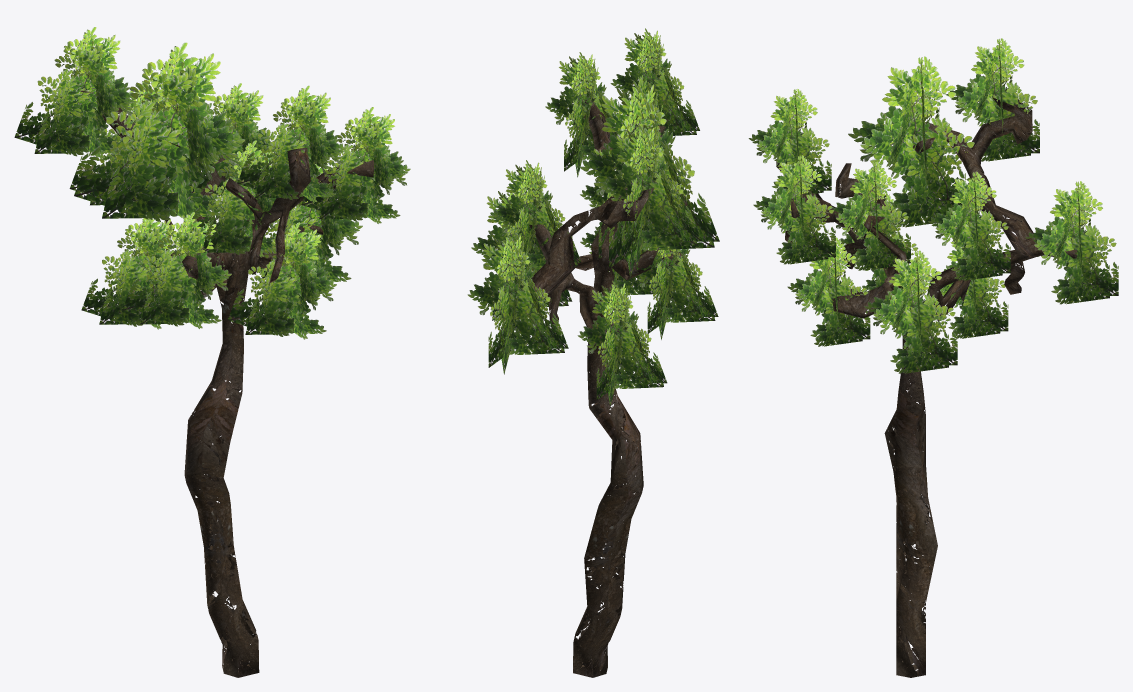
File: lowPolyTree.fbx
The picture shows the model from 3 angles, left to right: view 1: azimuth 30°, elevation 25°; view 2: azimuth 150°, elevation 25°; view 3: azimuth 270°, elevation 25°; orthographic projection. The views are drawn at different scales.
Parts seen in each view (by area): view 1: Cube; view 2: Cube; view 3: Cube.
Part boxes in pixels (x1,y1,x2,y2): Cube: (14,27,410,677); Cube: (467,28,719,677); Cube: (748,38,1118,677).
Size of the model in its own units: 2211 by 4522 by 2500.
2 materials, 2 textured.
